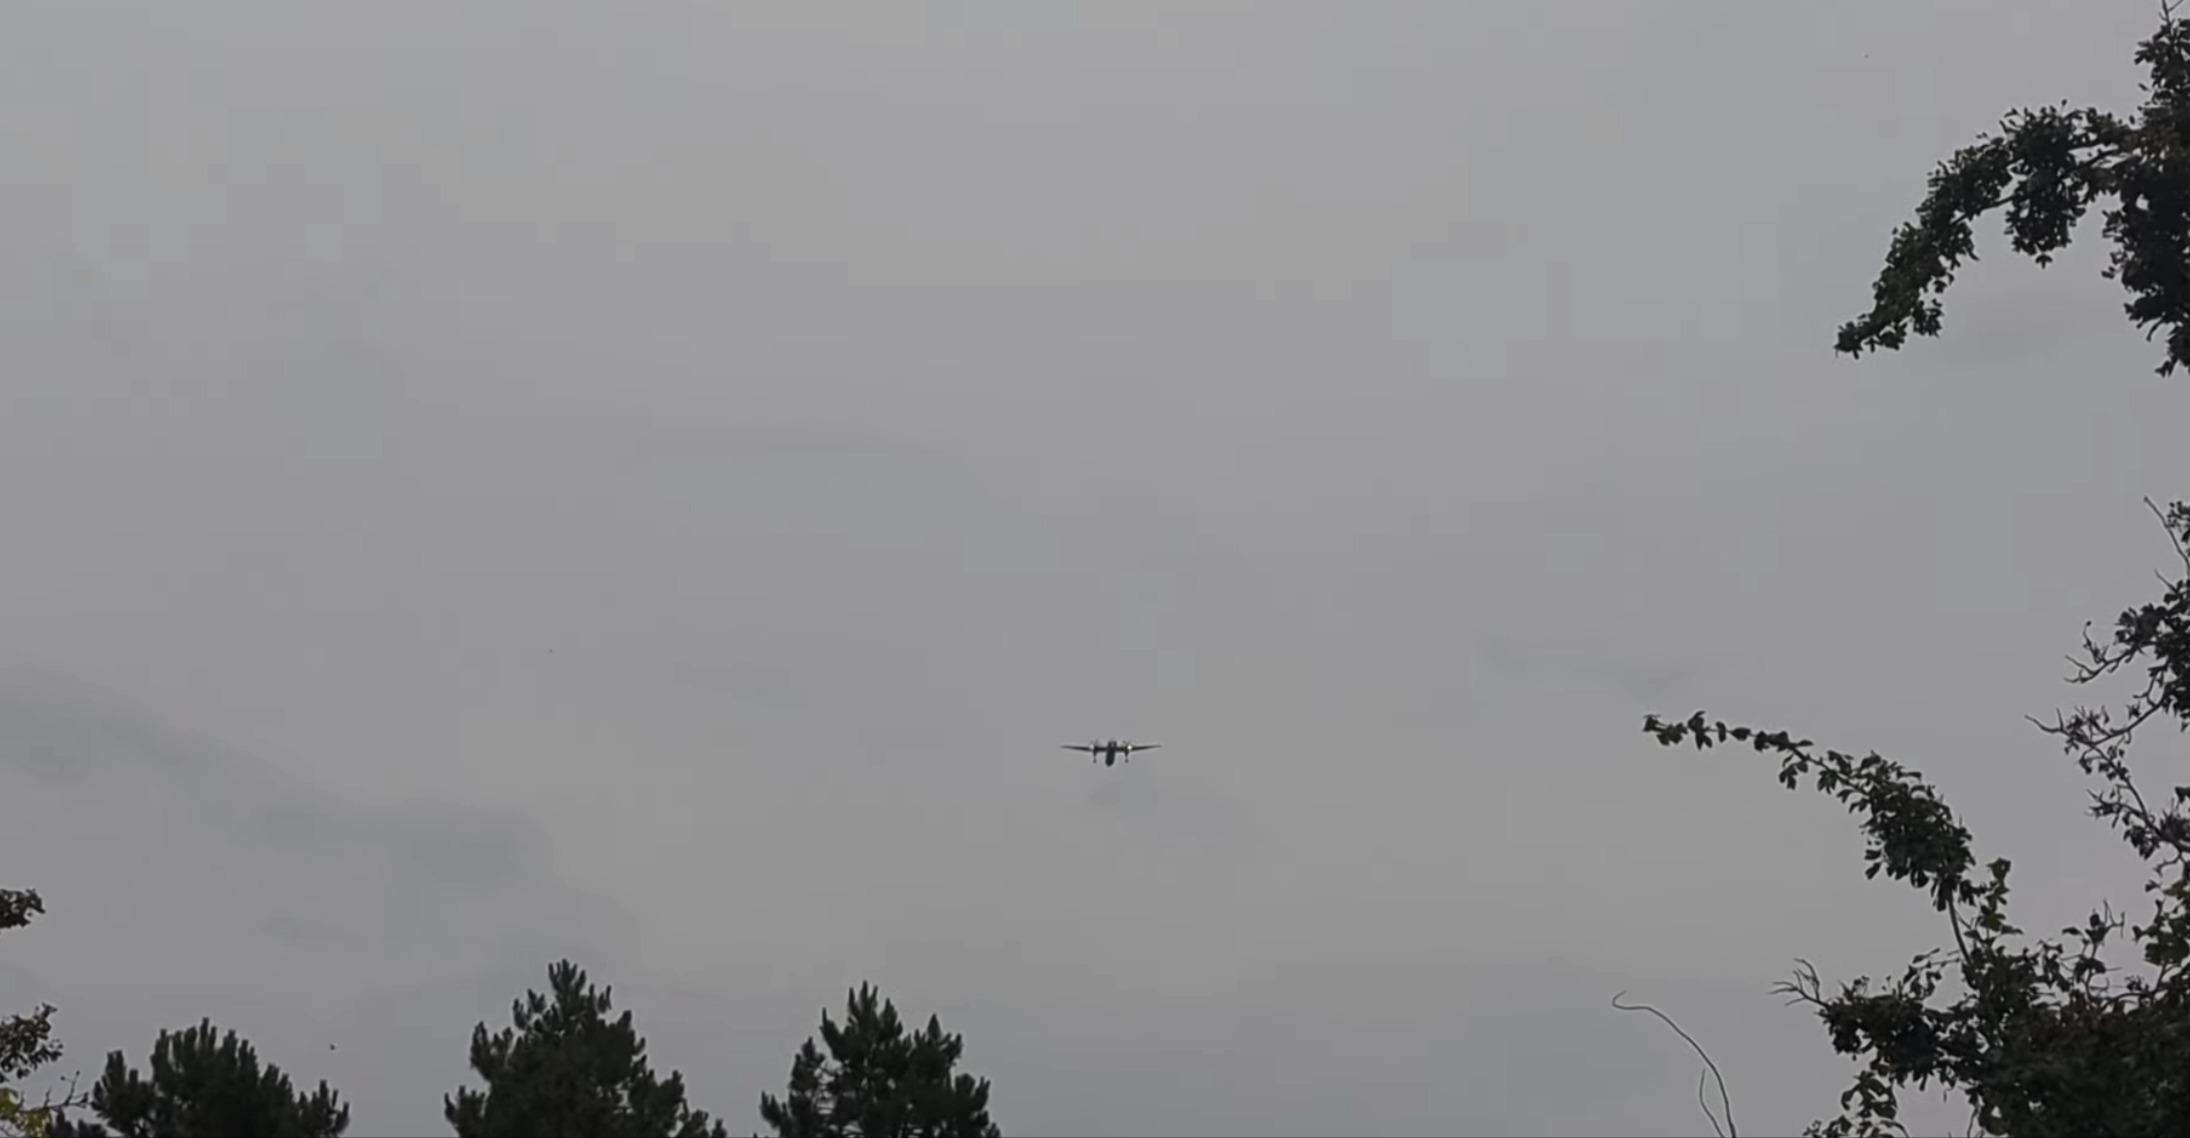Plane: (1040, 709, 1182, 791)
